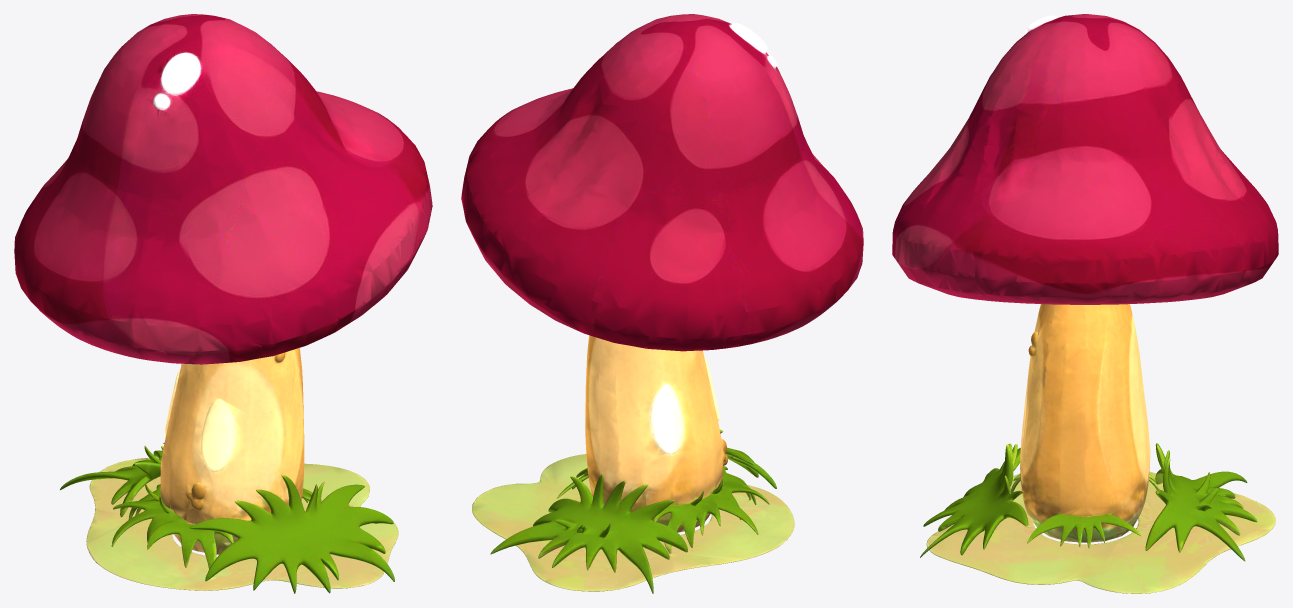
The model's file is cogumelo.glb.
The picture shows the model from 3 angles, left to right: view 1: azimuth 30°, elevation 25°; view 2: azimuth 150°, elevation 25°; view 3: azimuth 270°, elevation 25°; orthographic projection. The views are drawn at different scales.
Parts seen in each view (by area): view 1: mesh_node; view 2: mesh_node; view 3: mesh_node.
Part boxes in pixels (<box>): mesh_node: <box>14,14,432,593</box>; mesh_node: <box>461,14,863,593</box>; mesh_node: <box>892,14,1278,593</box>.
Size of the model in its own units: 1.38 by 1.9 by 1.36.
Materials: 1 (1 with a texture image).
